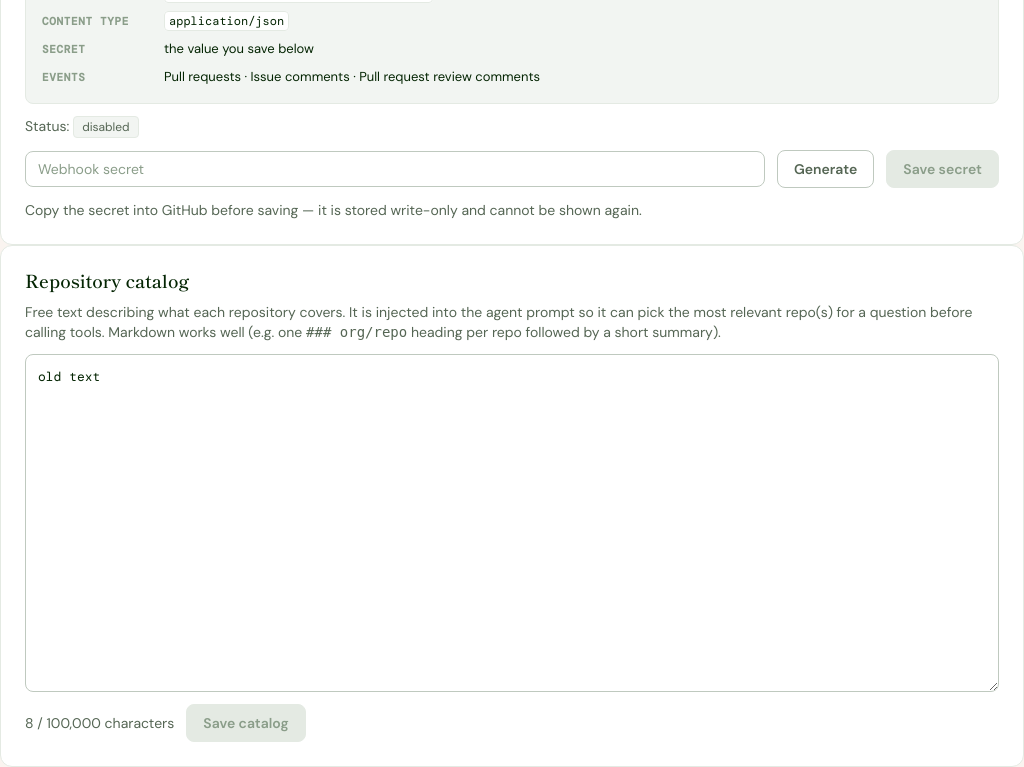
AdminGithub › saves the catalog with a dirty-gated button
The image size is (1024, 767).
(page scrolled)
Expected: the button "Save catalog" is disabled, [186,704,306,742]
Type " more" into the text box showing "old text" at [512, 523], box [25,354,999,692]
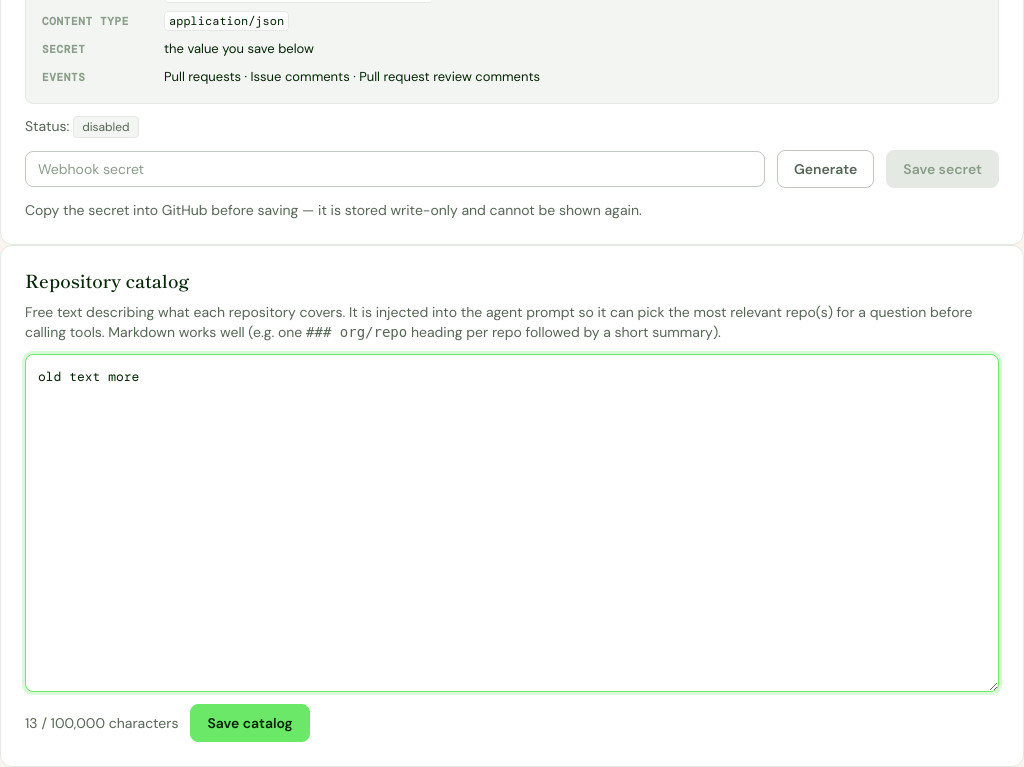
Result: the button "Save catalog" is enabled
Click the button "Save catalog" at [250, 723], box [190,704,310,742]
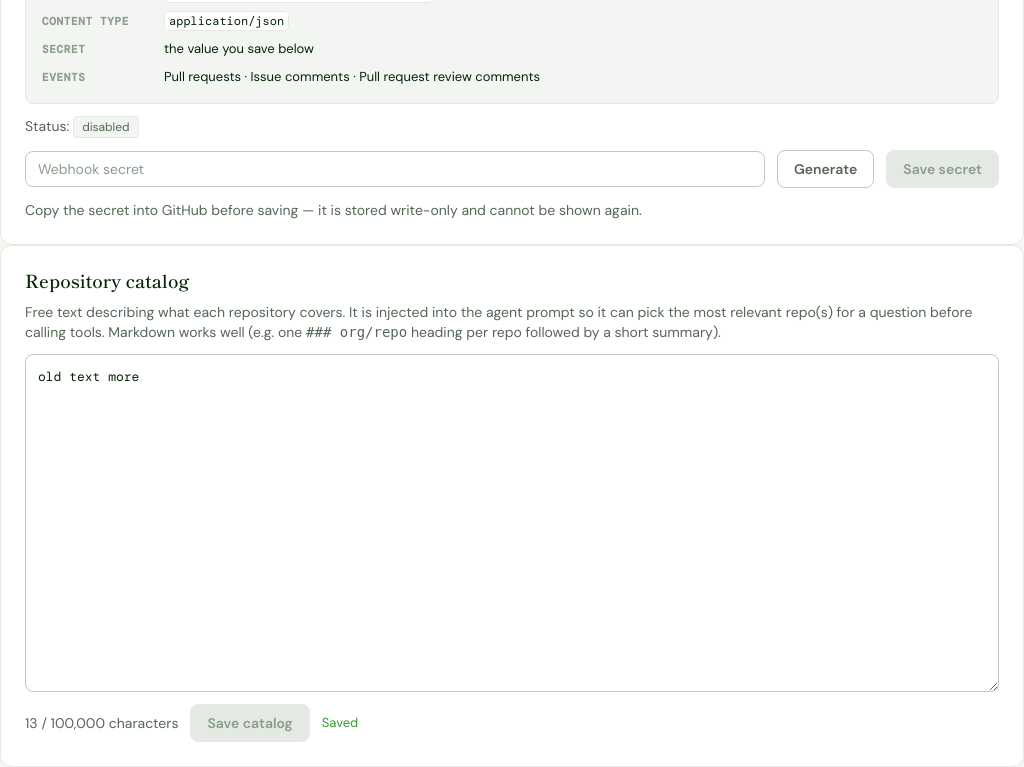
Result: the text "Saved" is shown at [322,713,358,733]
